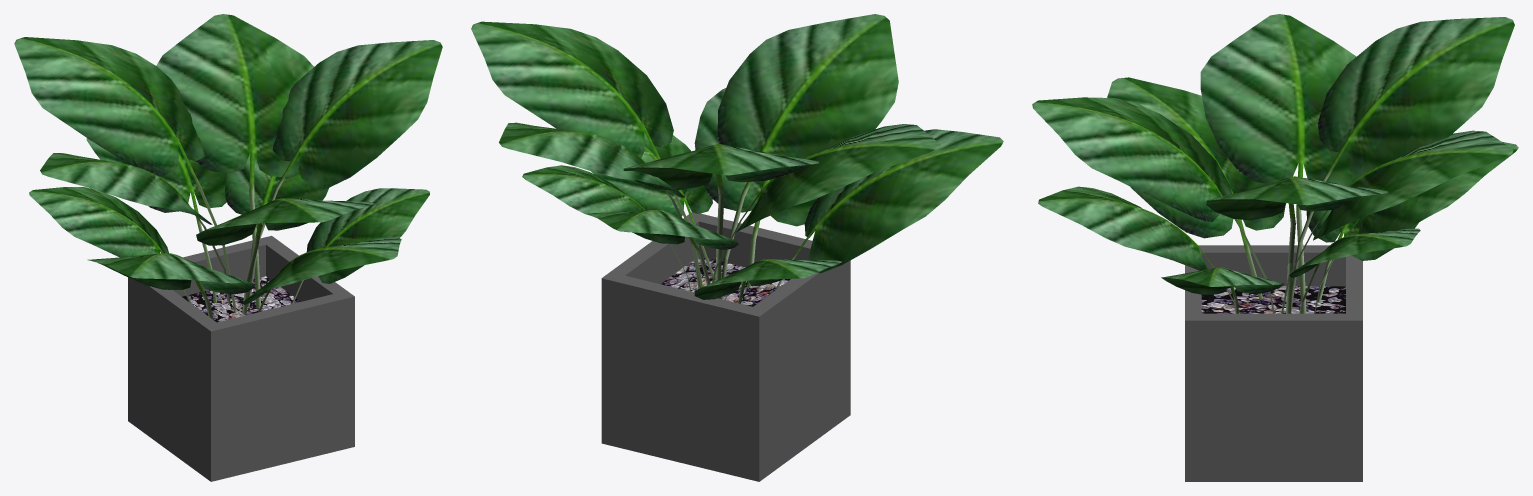
The model's file is pianta_vik.glb.
3 renders of one model, left to right at view 1: azimuth 30°, elevation 25°; view 2: azimuth 150°, elevation 25°; view 3: azimuth 270°, elevation 25°, orthographic. The views are drawn at different scales.
Parts seen in each view (by area): view 1: Cube.002; view 2: Cube.002; view 3: Cube.002.
Part boxes in pixels (box(x1,y1,x2,y2)): Cube.002: box(14, 14, 442, 481); Cube.002: box(471, 14, 1003, 481); Cube.002: box(1032, 14, 1518, 481).
Bounding box in the file's own units: 5.72 × 4.54 × 5.47.
3 materials, 2 textured.
